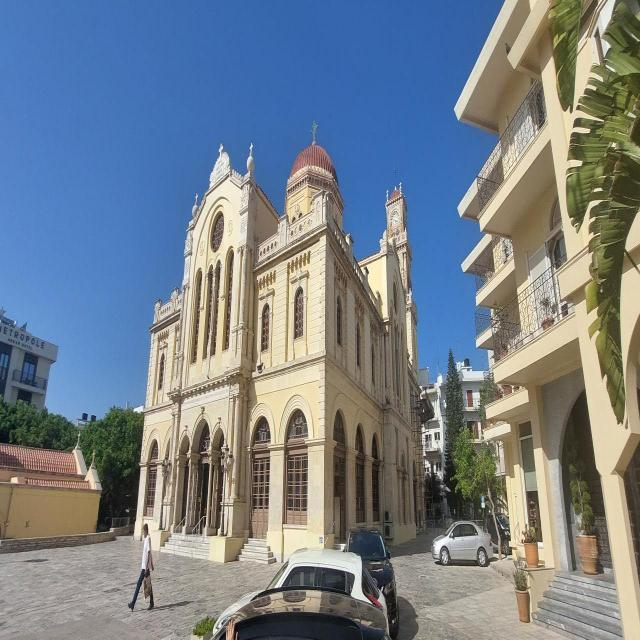Agios Minas: (134, 118, 426, 555)
